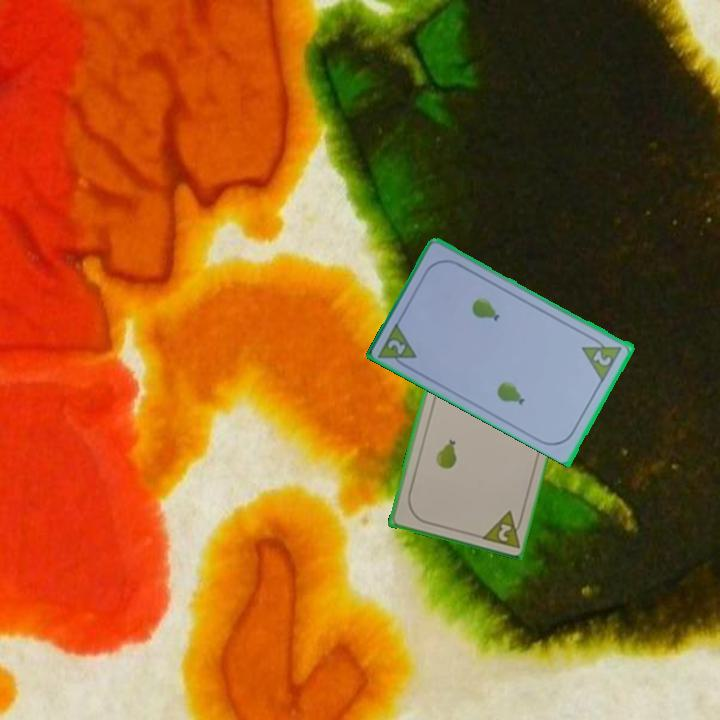2p: (375, 318, 421, 373), (579, 332, 625, 383), (477, 507, 527, 550)
